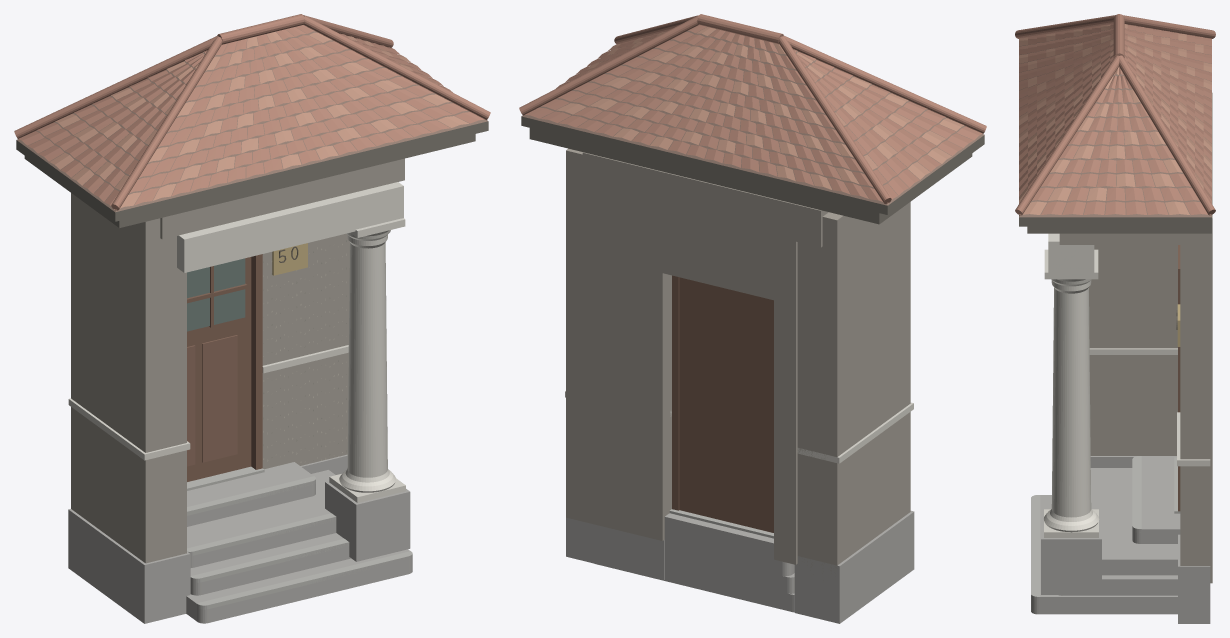
The model's file is huangpu-sinan-road-50-columned-porch-raw.glb.
3 renders of one model, left to right at view 1: azimuth 30°, elevation 25°; view 2: azimuth 150°, elevation 25°; view 3: azimuth 270°, elevation 25°, orthographic. The views are drawn at different scales.
Parts seen in each view (by area): view 1: 思南路50号花园住宅瓦檐门廊; view 2: 思南路50号花园住宅瓦檐门廊; view 3: 思南路50号花园住宅瓦檐门廊.
Part boxes in pixels (<box>): 思南路50号花园住宅瓦檐门廊: <box>14,14,490,623</box>; 思南路50号花园住宅瓦檐门廊: <box>519,14,986,623</box>; 思南路50号花园住宅瓦檐门廊: <box>1015,14,1215,623</box>.
Bounding box in the file's own units: 3.57 × 4.88 × 1.68.
